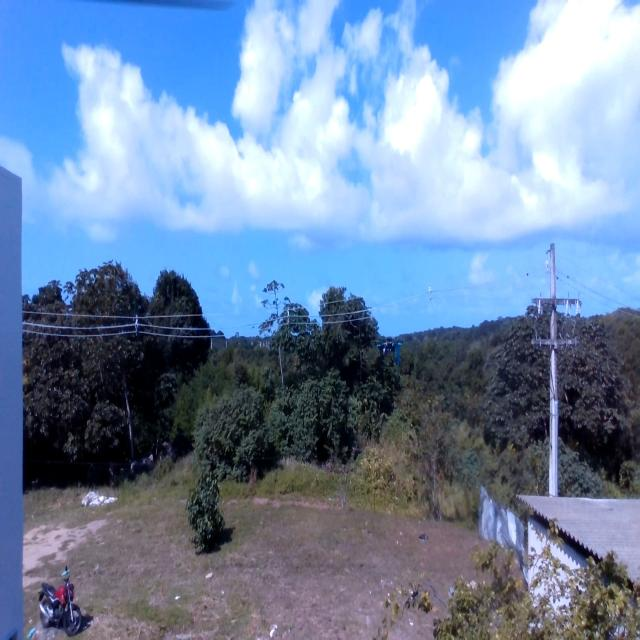-uav-: (372, 333, 408, 381)
